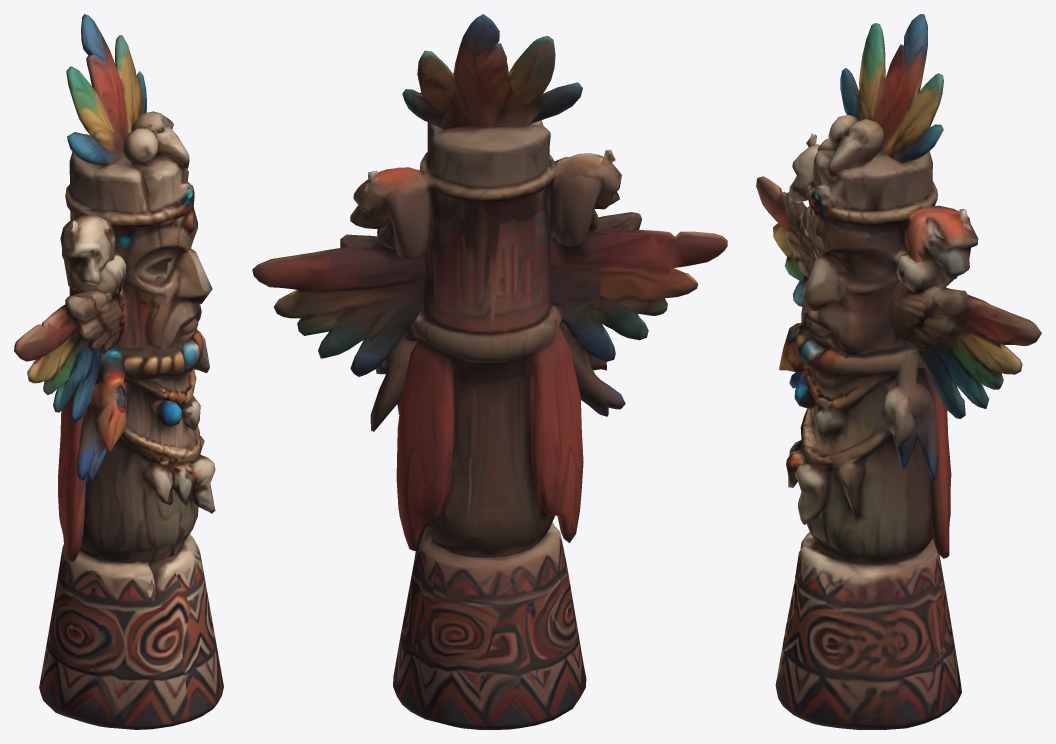
File: u01_totem_penas.glb
3 renders of one model, left to right at view 1: azimuth 30°, elevation 25°; view 2: azimuth 150°, elevation 25°; view 3: azimuth 270°, elevation 25°, orthographic. The views are drawn at different scales.
Visible parts, largest first — view 1: u01_totem_penas; view 2: u01_totem_penas; view 3: u01_totem_penas.
Part boxes in pixels (x1,y1,x2,y2): u01_totem_penas: [14, 14, 223, 729]; u01_totem_penas: [252, 14, 727, 729]; u01_totem_penas: [756, 14, 1041, 729].
Size of the model in its own units: 0.5746 by 1.17 by 0.4507.
Materials: 1 (1 with a texture image).
